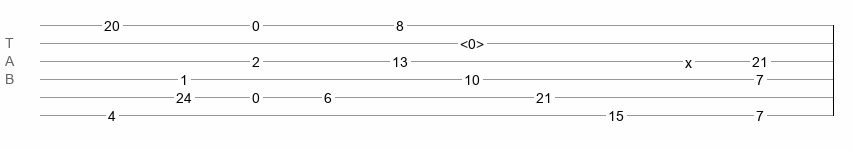0: (252, 90, 260, 100), (252, 18, 260, 28)
1: (180, 72, 188, 82)
10: (464, 72, 480, 82)
13: (392, 54, 408, 64)
15: (608, 108, 624, 118)
2: (252, 54, 260, 64)
20: (104, 18, 120, 28)
21: (536, 90, 552, 100), (752, 54, 768, 64)
24: (176, 90, 192, 100)
4: (108, 108, 116, 118)
6: (324, 90, 332, 100)
7: (756, 108, 764, 118), (756, 72, 764, 82)
8: (396, 18, 404, 28)
harmonic: (460, 36, 484, 46)
x: (685, 55, 692, 63)
